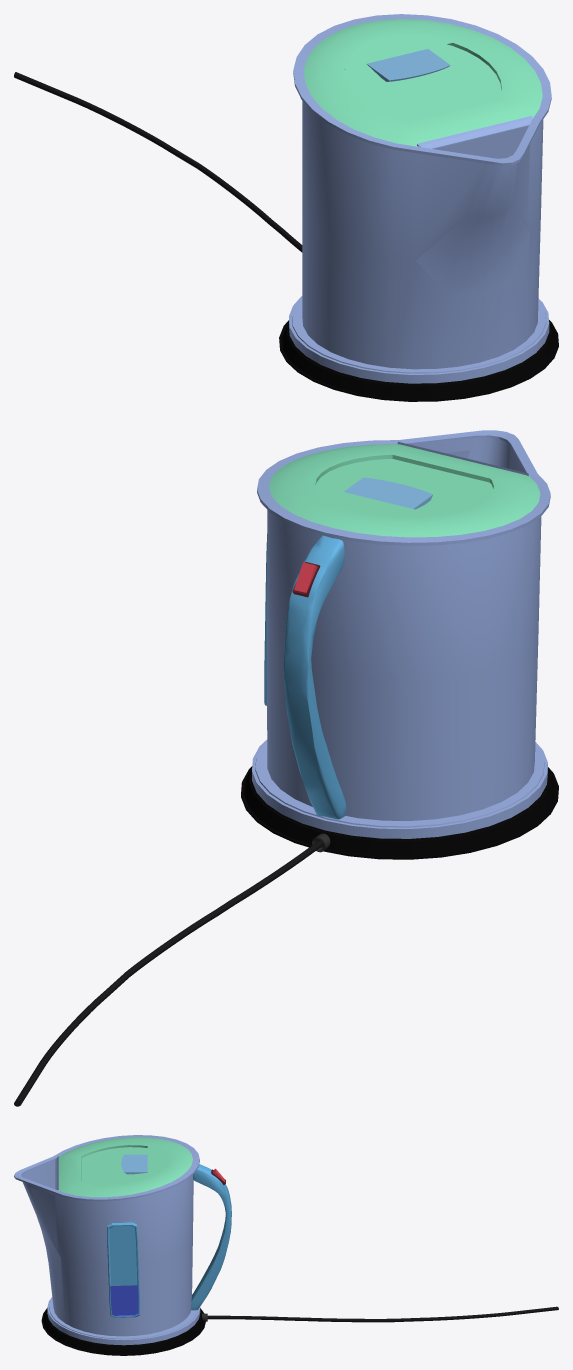
The picture shows the model from 3 angles, top to bottom: view 1: azimuth 30°, elevation 25°; view 2: azimuth 150°, elevation 25°; view 3: azimuth 270°, elevation 25°; orthographic projection. The views are drawn at different scales.
Visible parts, largest first — view 1: Cube.002, Circle.002, Cylinder.001, Cube.001; view 2: Cube.002, Circle.002, Cylinder.001, Cube.001; view 3: Cube.002, Circle.002, Cylinder.001, Cube.001.
Boxes of the visible parts, x1,y1,x2,y2 form: Cube.002: (289, 14, 551, 383); Circle.002: (304, 19, 542, 146); Cylinder.001: (14, 72, 558, 401); Cube.001: (367, 49, 450, 81); Cube.002: (252, 430, 550, 838); Circle.002: (269, 444, 540, 537); Cylinder.001: (14, 766, 558, 1106); Cube.001: (344, 477, 432, 509); Cube.002: (14, 1135, 231, 1345); Circle.002: (57, 1137, 192, 1197); Cylinder.001: (41, 1306, 558, 1355); Cube.001: (121, 1154, 147, 1174).
Size of the model in its own units: 204 by 224 by 677.
